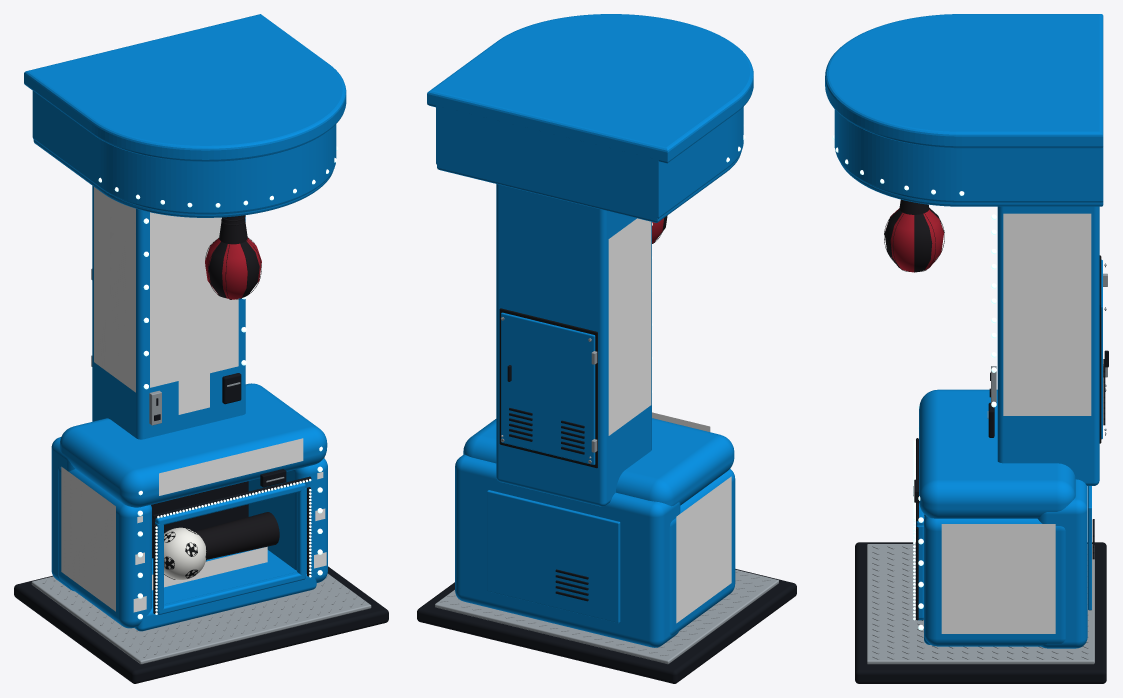
The model's file is double-strike-studio.glb.
The picture shows the model from 3 angles, left to right: view 1: azimuth 30°, elevation 25°; view 2: azimuth 150°, elevation 25°; view 3: azimuth 270°, elevation 25°; orthographic projection. The views are drawn at different scales.
Visible parts, largest first — view 1: body_top (×3), body_lower_top, decal_score_panel, diamond_plate, body_column, metal_platform, decal_left_side, decal_lower_left, body_lower_left, body_lower_bottom, recess_rim (×4), body_lower_right (+12 smaller); view 2: body_top (×3), body_column, body_lower_back, lower_service_door, rear_door, decal_left_side, metal_platform, body_lower_top, decal_lower_left, diamond_plate, body_lower_left, rear_panel_gasket (+1 smaller); view 3: body_top (×3), decal_right_side, body_lower_top, decal_lower_right, body_column, diamond_plate, metal_platform, body_lower_right, body_lower_back, boxing_bag, diamond_tread, boxing_bag_panel (+3 smaller).
Part boxes in pixels (x1,y1,x2,y2): body_top (×3): (24, 14, 346, 217); body_lower_top: (59, 383, 327, 507); decal_score_panel: (150, 212, 238, 387); diamond_plate: (31, 573, 371, 664); body_column: (92, 186, 245, 439); metal_platform: (14, 566, 388, 683); decal_left_side: (94, 187, 135, 392); decal_lower_left: (61, 466, 115, 611); body_lower_left: (58, 466, 151, 628); body_lower_bottom: (134, 547, 316, 631); recess_rim (×4): (155, 482, 306, 614); body_lower_right: (248, 458, 327, 582); body_top (×3): (427, 14, 753, 222); body_column: (496, 184, 651, 506); body_lower_back: (455, 454, 680, 647); lower_service_door: (487, 490, 620, 623); rear_door: (501, 312, 595, 464); decal_left_side: (608, 218, 651, 435); metal_platform: (417, 569, 796, 683); body_lower_top: (463, 418, 734, 506); decal_lower_left: (676, 476, 731, 623); diamond_plate: (435, 569, 778, 663); body_lower_left: (669, 469, 735, 635); rear_panel_gasket: (499, 308, 597, 468); body_top (×3): (825, 14, 1103, 206); decal_right_side: (1003, 213, 1091, 415); body_lower_top: (919, 389, 1075, 518); decal_lower_right: (941, 524, 1055, 633); body_column: (997, 206, 1099, 485); diamond_plate: (867, 544, 1094, 664); metal_platform: (855, 542, 1106, 683); body_lower_right: (924, 515, 1065, 646); body_lower_back: (1038, 479, 1087, 648); boxing_bag: (890, 208, 943, 272); diamond_tread: (872, 546, 1088, 659); boxing_bag_panel: (914, 214, 932, 272).
Size of the model in its own units: 1.3 by 2.55 by 1.2.
